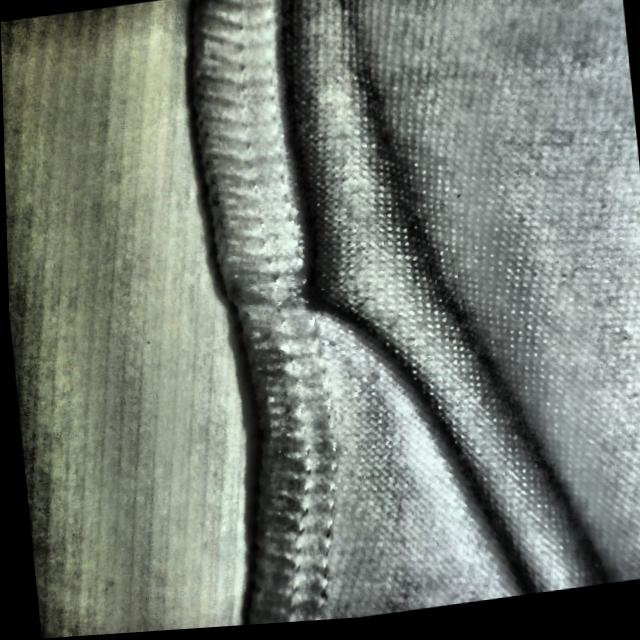seam: (190, 95, 454, 411)
